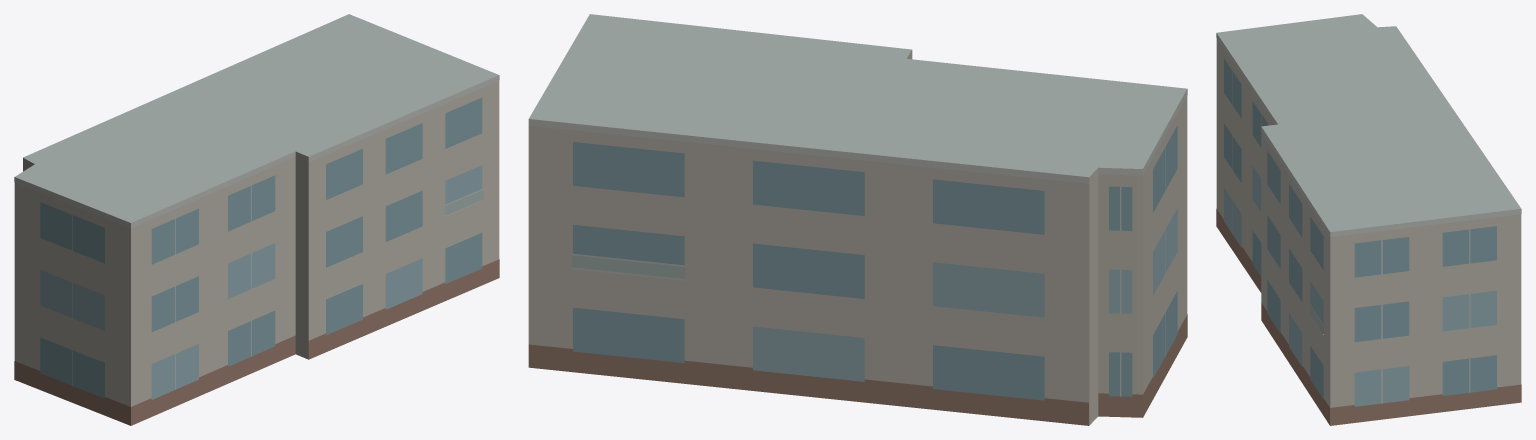
The model's file is survey-upis-32571076.glb.
The picture shows the model from 3 angles, left to right: view 1: azimuth 30°, elevation 25°; view 2: azimuth 150°, elevation 25°; view 3: azimuth 270°, elevation 25°; orthographic projection. The views are drawn at different scales.
Parts seen in each view (by area): view 1: survey-upis-32571076.tmp; view 2: survey-upis-32571076.tmp; view 3: survey-upis-32571076.tmp.
Part boxes in pixels (box(x1,y1,x2,y2)): survey-upis-32571076.tmp: box(14, 14, 499, 425); survey-upis-32571076.tmp: box(528, 14, 1187, 425); survey-upis-32571076.tmp: box(1216, 14, 1521, 425).
Bounding box in the file's own units: 22.1 × 9.15 × 13.06.
